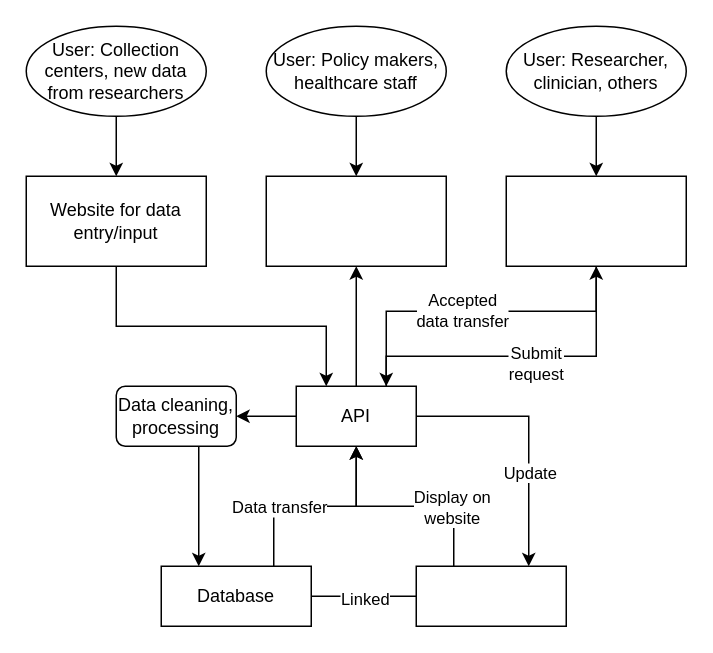
Some shapes in this 713 by 653 pixel diagram are drawn without their labels. The shapes that lost their labels are listed below. From the top down, each one's centre as x and y in pixels, then its label:
At pixel 355 220: "Website with general results, links to key findings, publications".
At pixel 595 220: "Website for request for access, data transfers, documentation".
At pixel 490 595: "Documentation".
